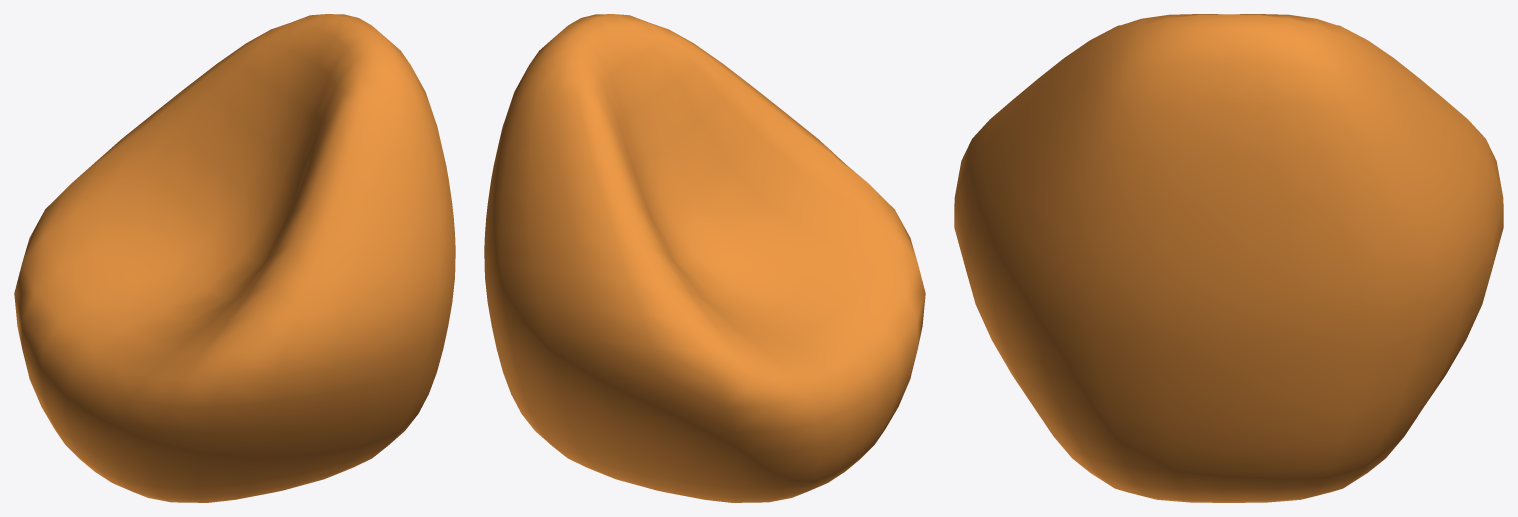
The model's file is beanbag_02_yellow.fbx.
The picture shows the model from 3 angles, left to right: view 1: azimuth 30°, elevation 25°; view 2: azimuth 150°, elevation 25°; view 3: azimuth 270°, elevation 25°; orthographic projection. The views are drawn at different scales.
Visible parts, largest first — view 1: beanbag_02_yellow; view 2: beanbag_02_yellow; view 3: beanbag_02_yellow.
Part boxes in pixels (left/top/right/bottom): beanbag_02_yellow: left=14, top=14, right=455, bottom=502; beanbag_02_yellow: left=484, top=14, right=925, bottom=502; beanbag_02_yellow: left=954, top=14, right=1503, bottom=502.
Bounding box in the file's own units: 87.11 × 97.36 × 93.71.
1 material, 1 textured.
